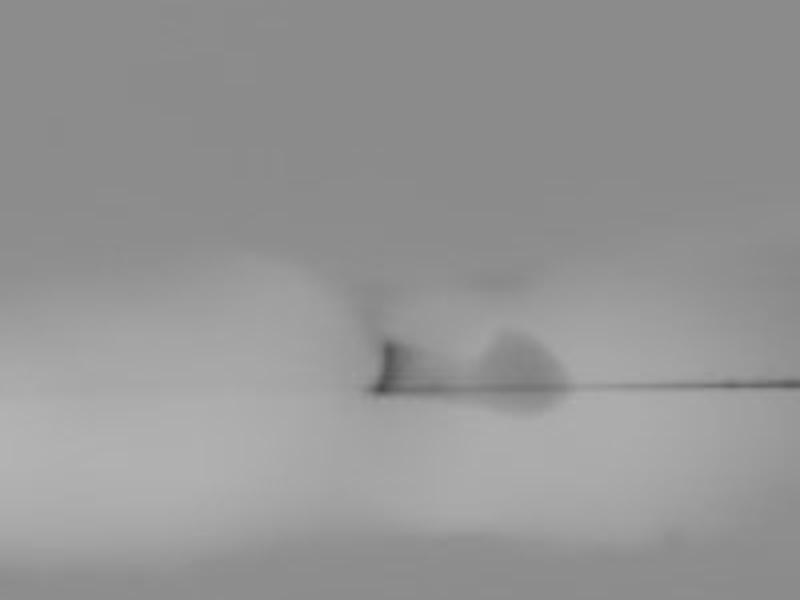defect: (474, 331, 573, 415)
